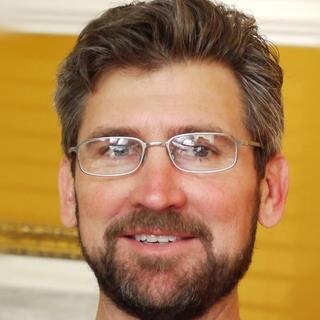eye: (172, 141, 220, 162), (94, 142, 140, 161)
